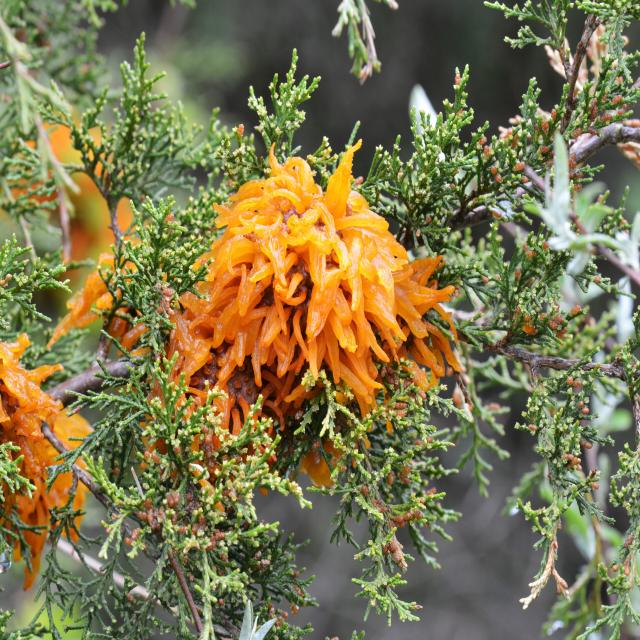Gymnosporangium_Rusts: (154, 136, 464, 486)
